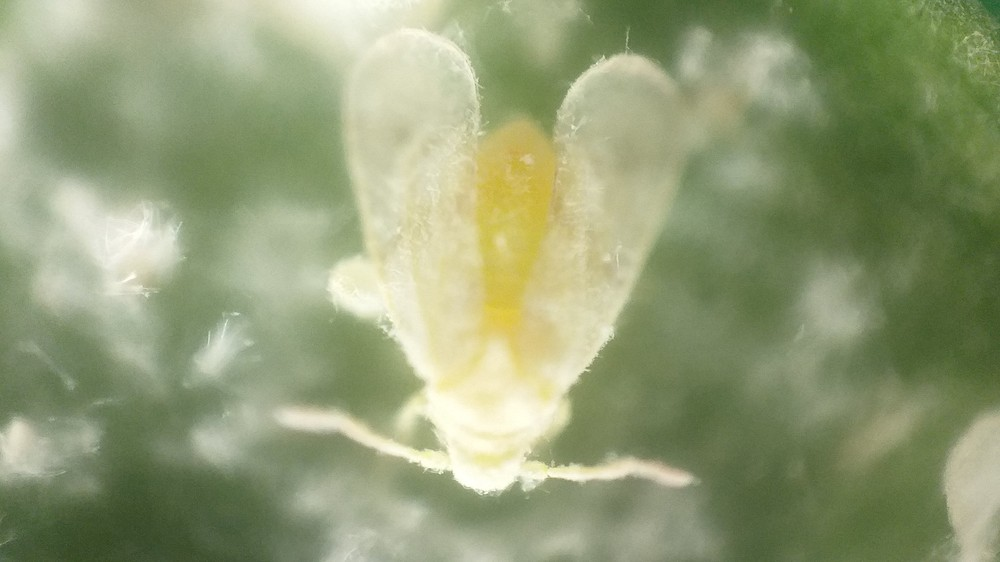Mosca Blanca: (272, 17, 709, 521)
